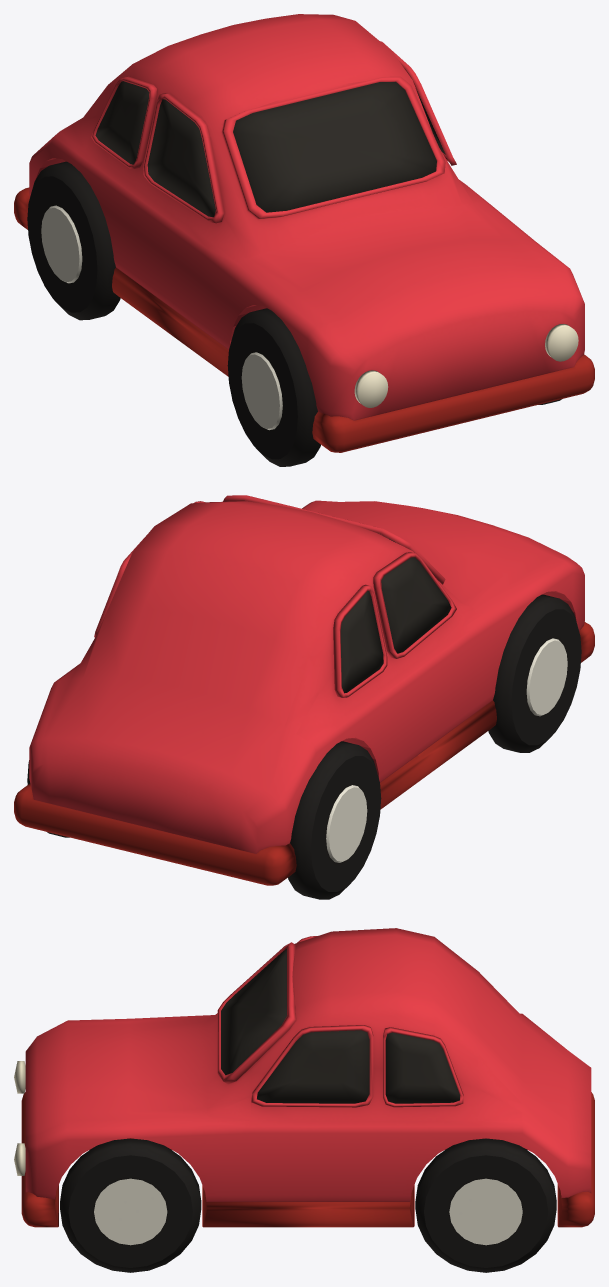
Rendered from car-hatchback.fbx.
The picture shows the model from 3 angles, top to bottom: view 1: azimuth 30°, elevation 25°; view 2: azimuth 150°, elevation 25°; view 3: azimuth 270°, elevation 25°; orthographic projection. The views are drawn at different scales.
Parts seen in each view (by area): view 1: car-hatchback; view 2: car-hatchback; view 3: car-hatchback.
Boxes of the visible parts, x1=… form: car-hatchback: x1=14, y1=14, x2=594, y2=466; car-hatchback: x1=14, y1=495, x2=594, y2=899; car-hatchback: x1=14, y1=928, x2=594, y2=1272.
Size of the model in its own units: 757 by 728 by 1500.
1 material, 1 textured.
